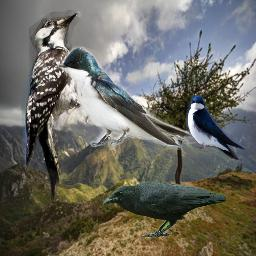Crow: (102, 181, 226, 239)
Swallow: (56, 45, 193, 150), (186, 95, 245, 160)
Woodpecker: (19, 8, 97, 204)
